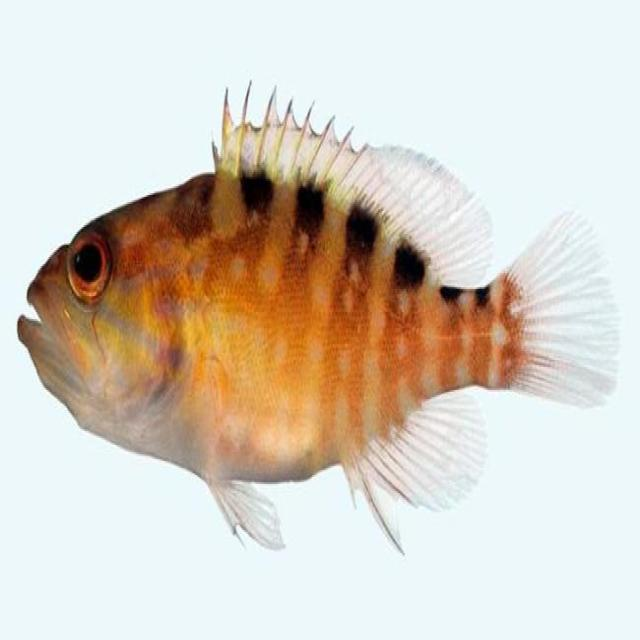ikan: (16, 78, 620, 557)
